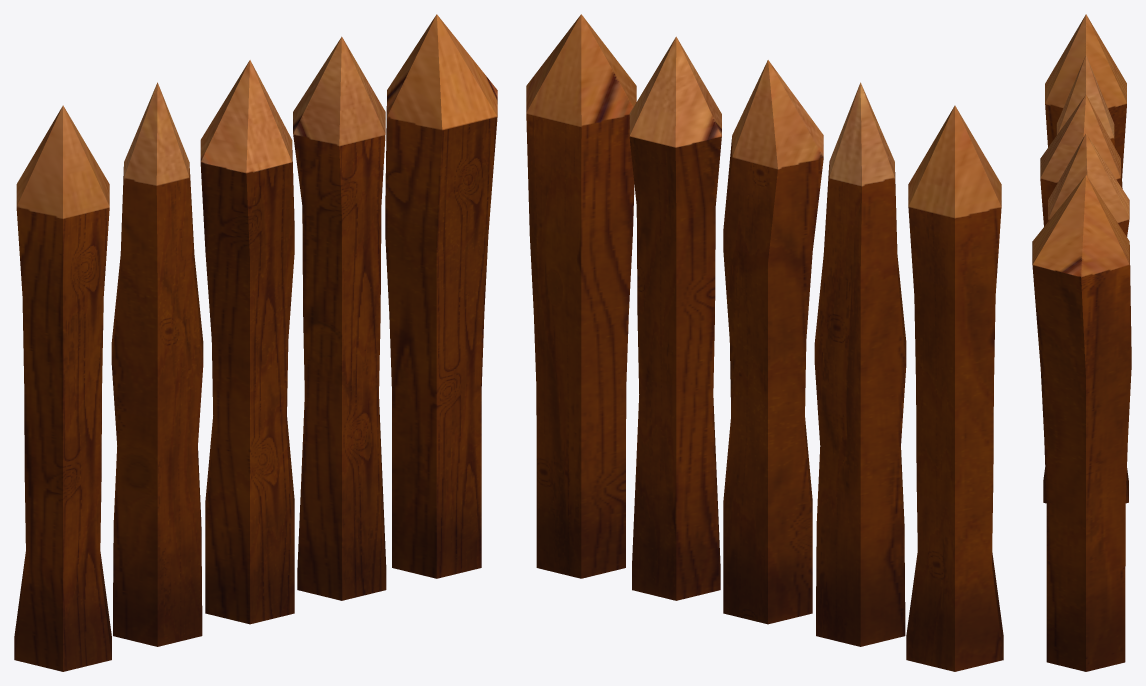
File: Fence_Wood.fbx
3 renders of one model, left to right at view 1: azimuth 30°, elevation 25°; view 2: azimuth 150°, elevation 25°; view 3: azimuth 270°, elevation 25°, orthographic. The views are drawn at different scales.
Parts seen in each view (by area): view 1: Wall_Wood; view 2: Wall_Wood; view 3: Wall_Wood.
Part boxes in pixels (left/top/right/bottom): Wall_Wood: left=14, top=14, right=497, bottom=671; Wall_Wood: left=526, top=14, right=1003, bottom=671; Wall_Wood: left=1032, top=14, right=1131, bottom=671.
Size of the model in its own units: 1.85 by 2 by 0.3754.
